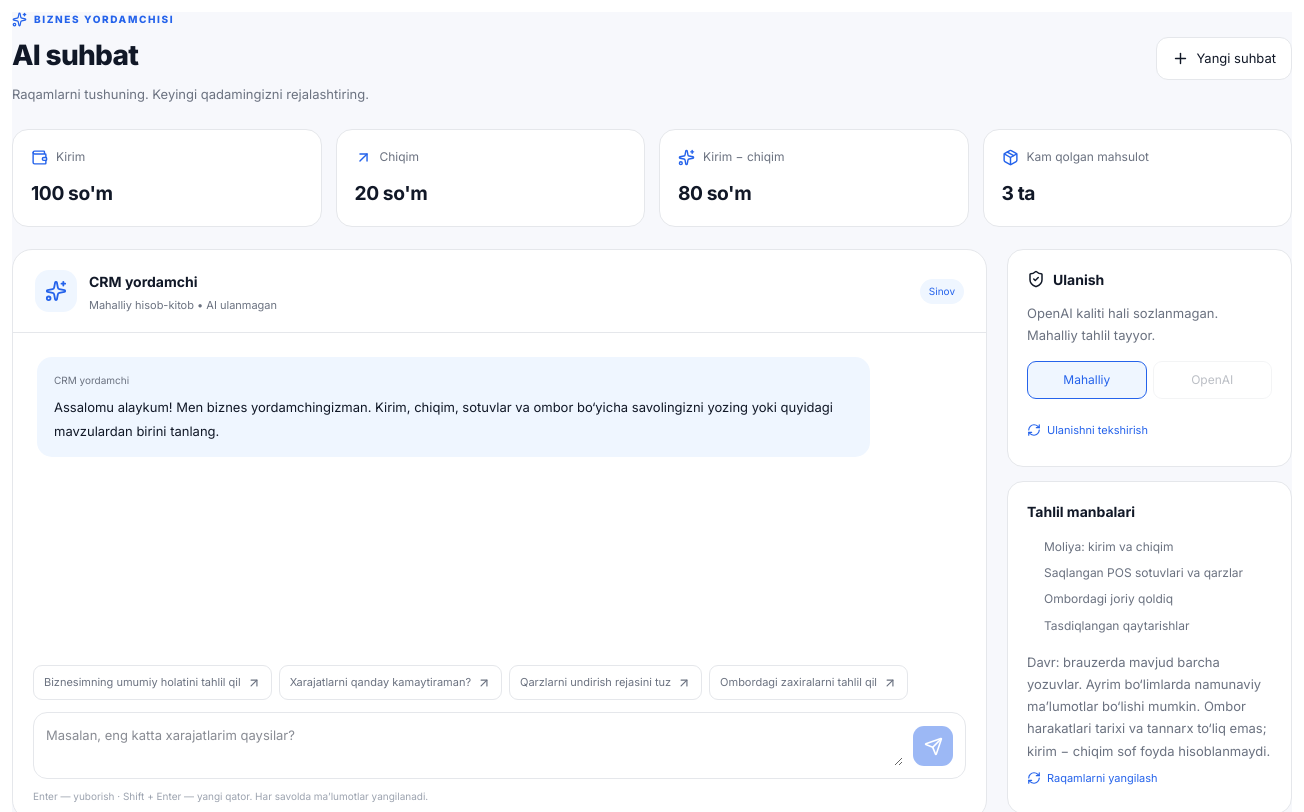
Test: local analysis uses current finance and persists the conversation; OpenAI stays disabled without a key
Later steps or results of the test are not shown.
Expected: the button "OpenAI" is disabled, [1152,361,1272,399]
Click the button "Biznesimning umumiy holatini tahlil qil" at x=152, y=683, box [33,665,272,700]
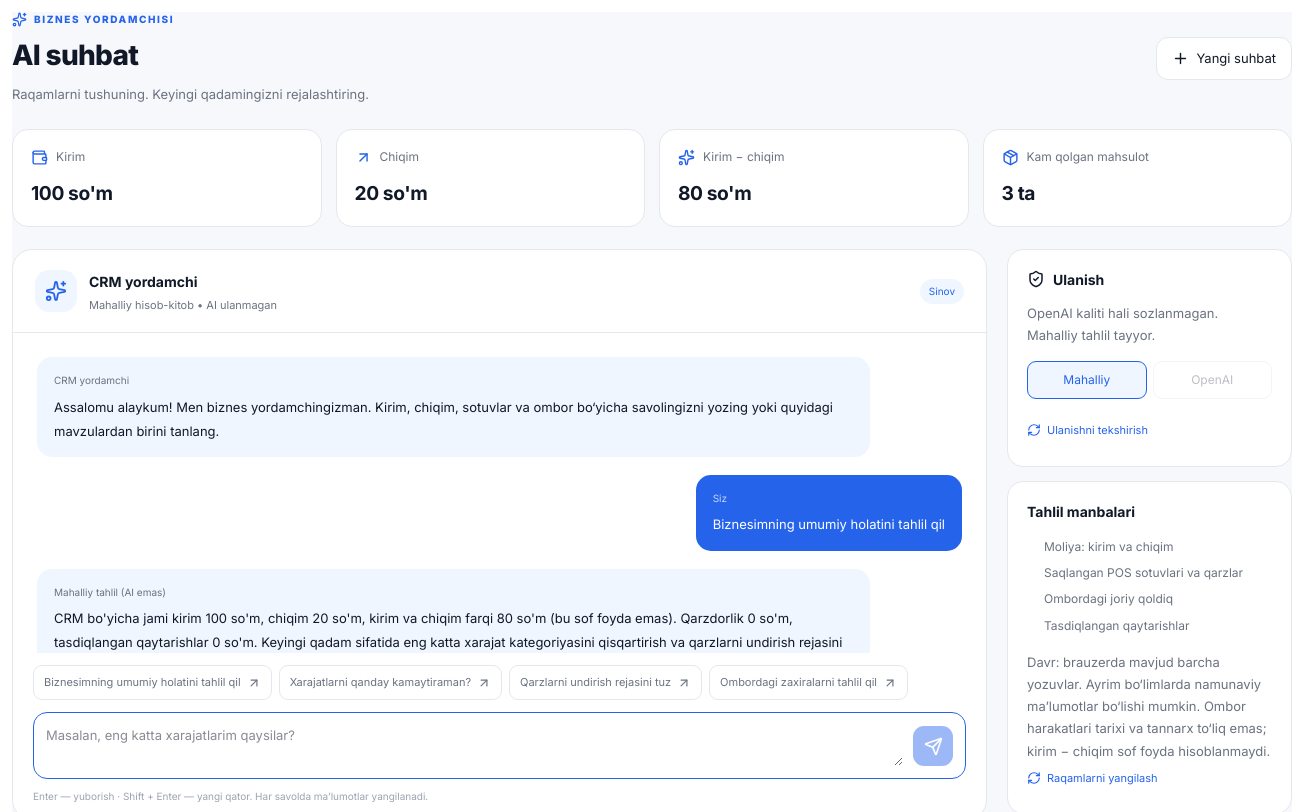
Now the text "80" is shown, box [54,610,846,674]
Now the text "bu sof foyda emas" is shown, box [54,610,846,674]
